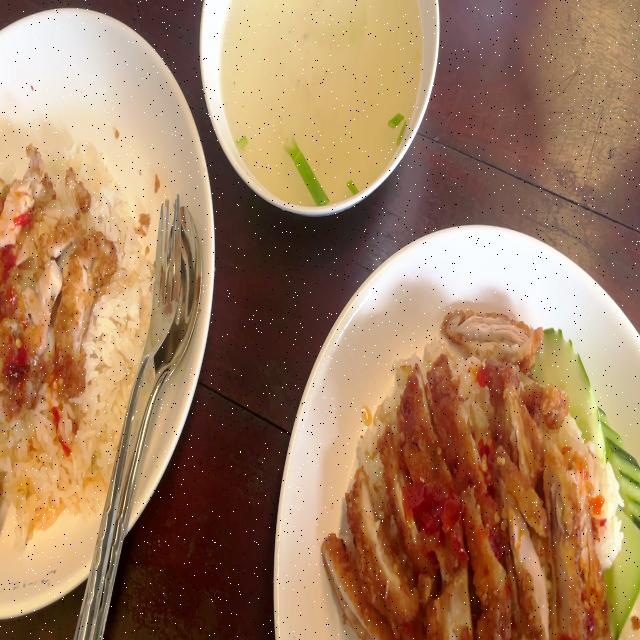chicken_rice: (321, 302, 640, 640), (0, 129, 157, 552)
cucumber: (535, 321, 610, 487), (593, 401, 640, 640)
fried_chicken: (318, 306, 596, 640), (0, 137, 120, 397)
